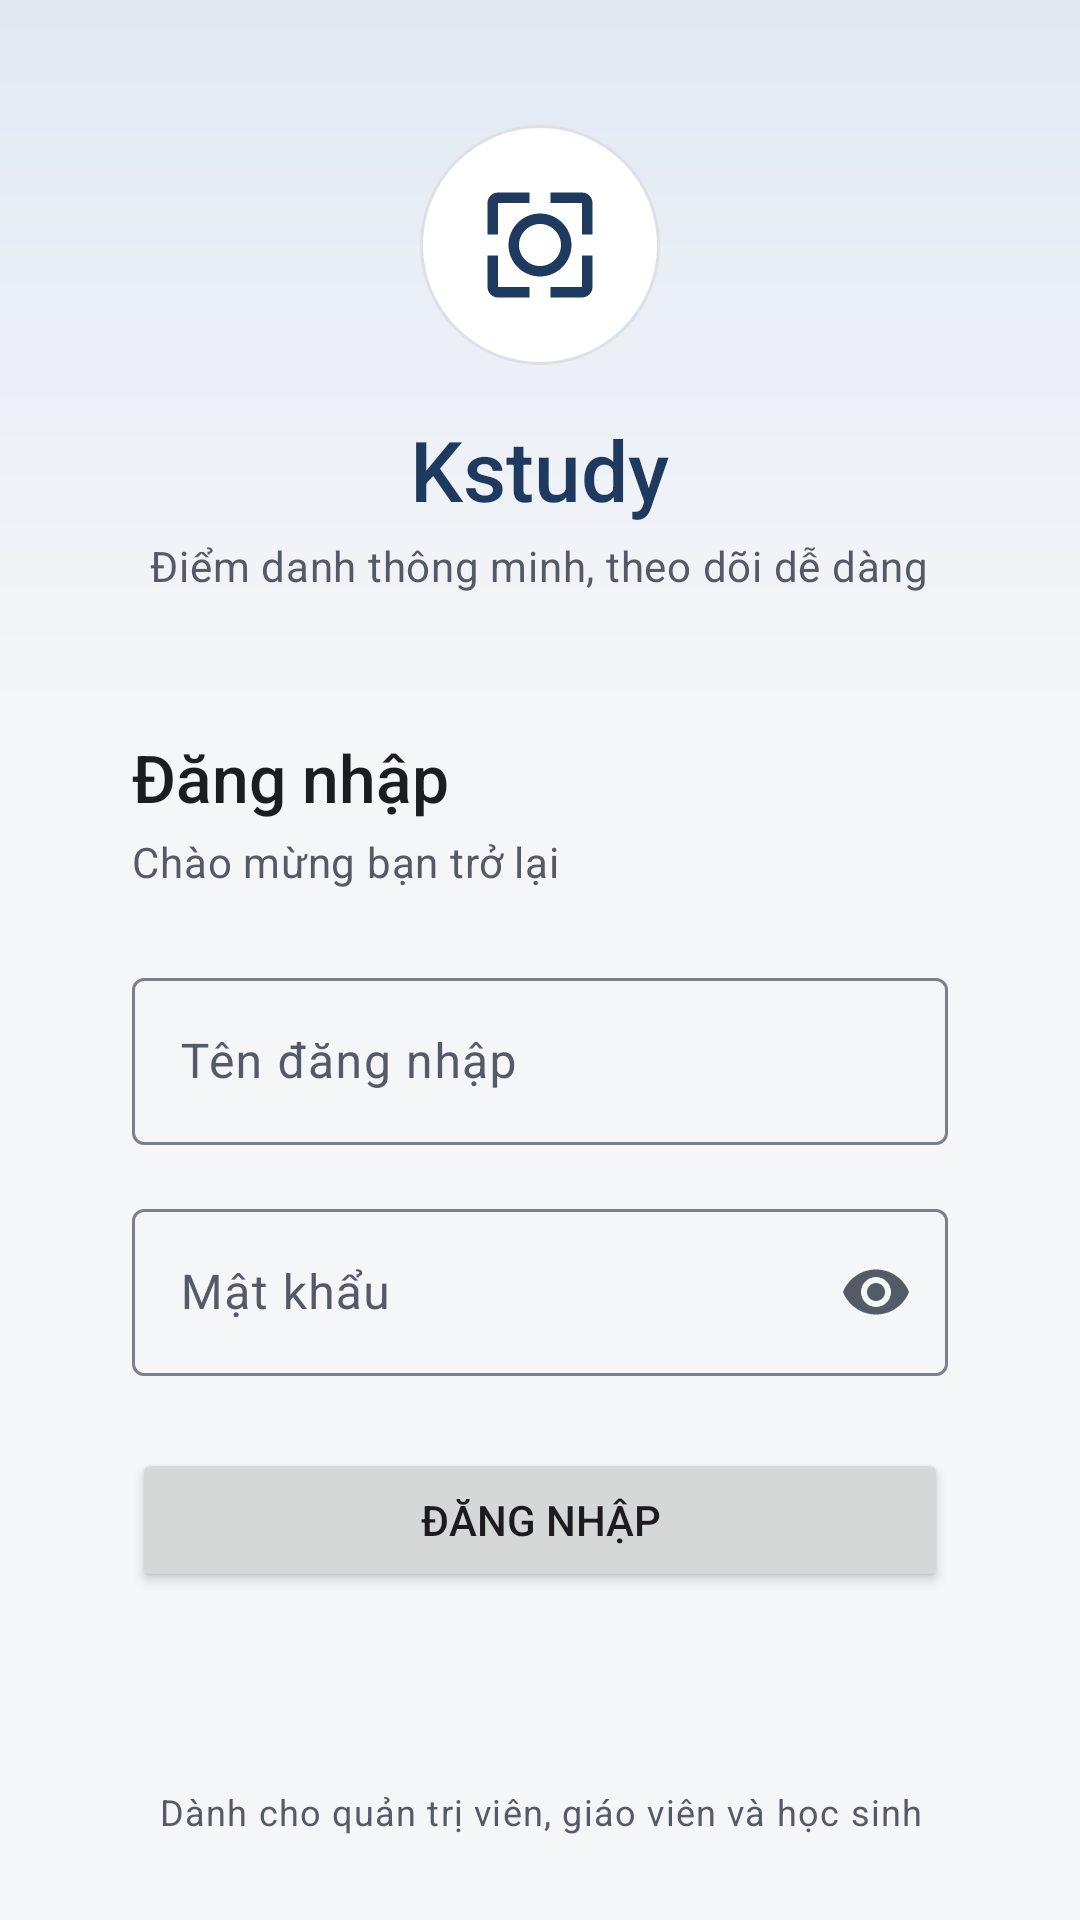

Locate icon controls on the screen. Image size 1080×1920, boxes as (x1, y1, x2, y2).
scan: (487, 192, 593, 298)
